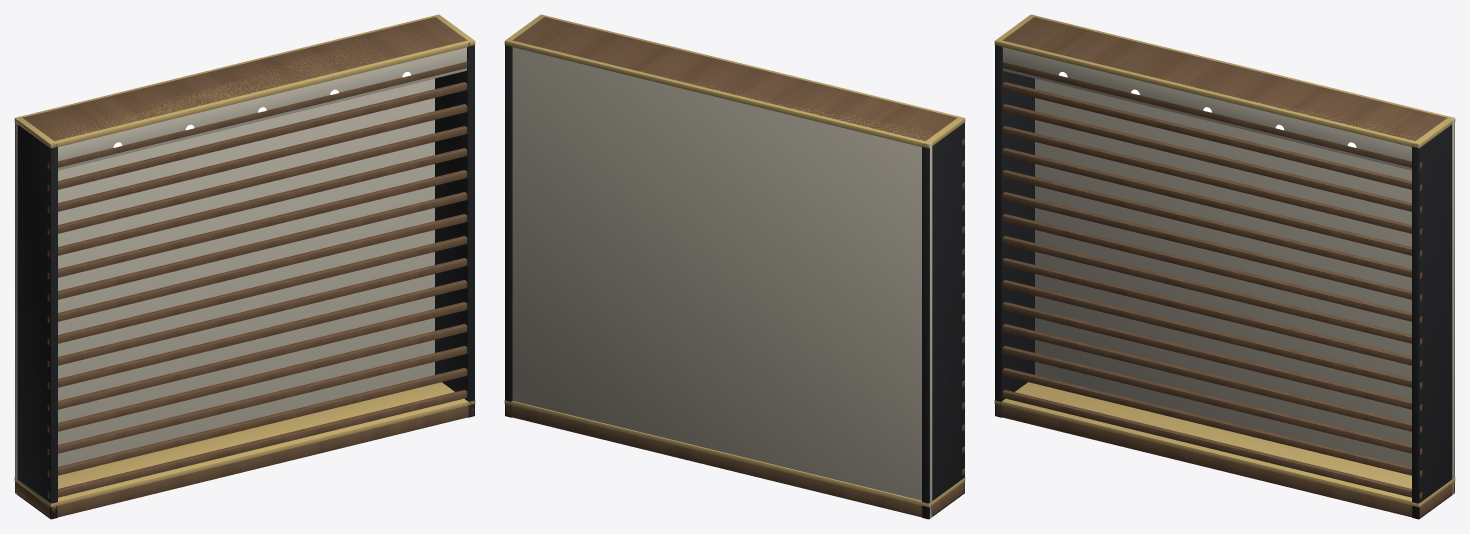
File: pf_display_wall_slat_system_t5.glb
3 renders of one model, left to right at view 1: azimuth 30°, elevation 25°; view 2: azimuth 150°, elevation 25°; view 3: azimuth 330°, elevation 25°, orthographic.
Visible parts, largest first — view 1: Slatwall_Back, Slatwall_Left_Trim, Crown_Main, Slatwall_Right_Trim, Plinth_Trim, Header_Back, Crown_Trim, Plinth_Base, Slat_02, Slat_01, Slat_03, Slat_15 (+12 smaller); view 2: Slatwall_Back, Slatwall_Left_Trim, Crown_Main, Plinth_Base, Crown_Trim, Slatwall_Right_Trim, Plinth_Trim; view 3: Slatwall_Back, Slatwall_Right_Trim, Crown_Main, Slatwall_Left_Trim, Plinth_Trim, Header_Back, Plinth_Base, Crown_Trim, Slat_02, Slat_01, Slat_03, Slat_15 (+12 smaller).
Boxes of the visible parts, x1,y1,x2,y2 form: Slatwall_Back: [15, 15, 441, 495]; Slatwall_Left_Trim: [15, 122, 57, 519]; Crown_Main: [22, 17, 467, 141]; Slatwall_Right_Trim: [435, 43, 474, 417]; Plinth_Trim: [14, 382, 475, 507]; Header_Back: [58, 47, 466, 170]; Crown_Trim: [14, 14, 475, 148]; Plinth_Base: [15, 405, 473, 517]; Slat_02: [47, 367, 467, 476]; Slat_01: [47, 389, 467, 498]; Slat_03: [47, 345, 467, 454]; Slat_15: [47, 82, 467, 191]; Slatwall_Back: [505, 38, 932, 518]; Slatwall_Left_Trim: [922, 122, 964, 519]; Crown_Main: [512, 17, 957, 141]; Plinth_Base: [506, 404, 964, 517]; Crown_Trim: [504, 14, 965, 148]; Slatwall_Right_Trim: [505, 45, 512, 417]; Plinth_Trim: [504, 400, 965, 507]; Slatwall_Back: [1028, 15, 1454, 495]; Slatwall_Right_Trim: [1412, 122, 1454, 519]; Crown_Main: [1002, 17, 1447, 141]; Slatwall_Left_Trim: [995, 45, 1034, 417]; Plinth_Trim: [994, 382, 1455, 507]; Header_Back: [1003, 47, 1411, 170]; Plinth_Base: [996, 404, 1454, 517]; Crown_Trim: [994, 14, 1455, 148]; Slat_02: [1002, 367, 1422, 476]; Slat_01: [1002, 389, 1422, 498]; Slat_03: [1002, 345, 1422, 454]; Slat_15: [1002, 82, 1422, 191].
Size of the model in its own units: 3.1 by 2.62 by 0.46.
Materials: 6 (2 with a texture image).
